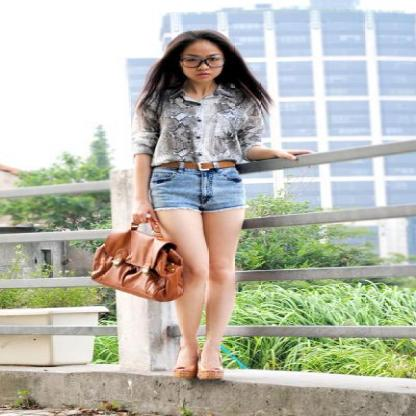bag: (88, 208, 194, 302)
shirt: (123, 77, 271, 170)
shoe: (174, 358, 226, 398)
shorts: (146, 158, 260, 216)
